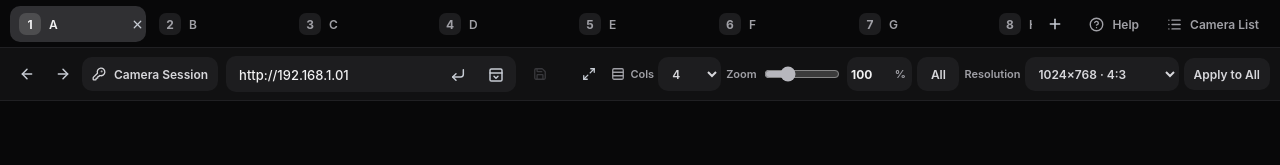
Test: BrowserChrome › uses descriptive shared tooltips for browser commands
This screenshot has width=1280, height=165.
Focus the button named "Back" at (27, 74), box [10,57,44,91]
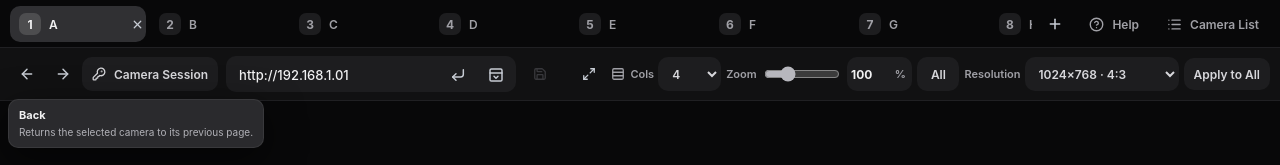
Result: the tooltip shows "Back" at [19,108,46,122]
Result: the tooltip shows "Returns the selected camera to its previous page." at [19,126,253,138]
Leave the button named "Back", box [10,57,44,91]
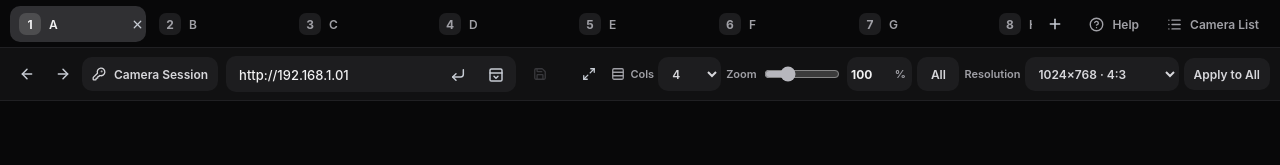
Focus the button "Camera List" at (1213, 24), box [1156,7,1270,41]
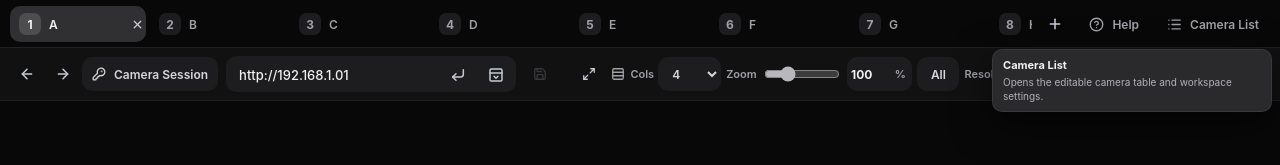
Result: the tooltip shows "Opens the editable camera table and workspace settings." at [1003,76,1232,102]
